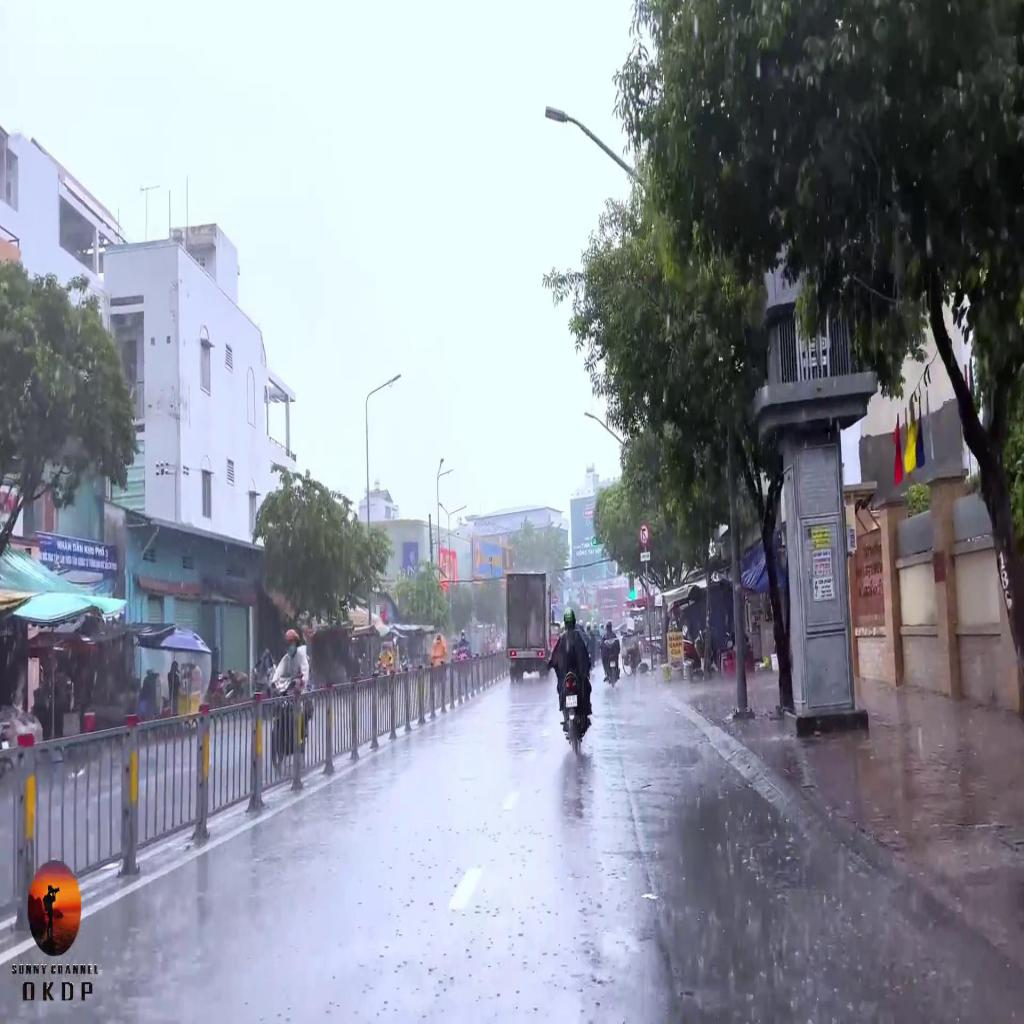cam_re_phai: (640, 524, 648, 546)
khac: (640, 553, 650, 561)
